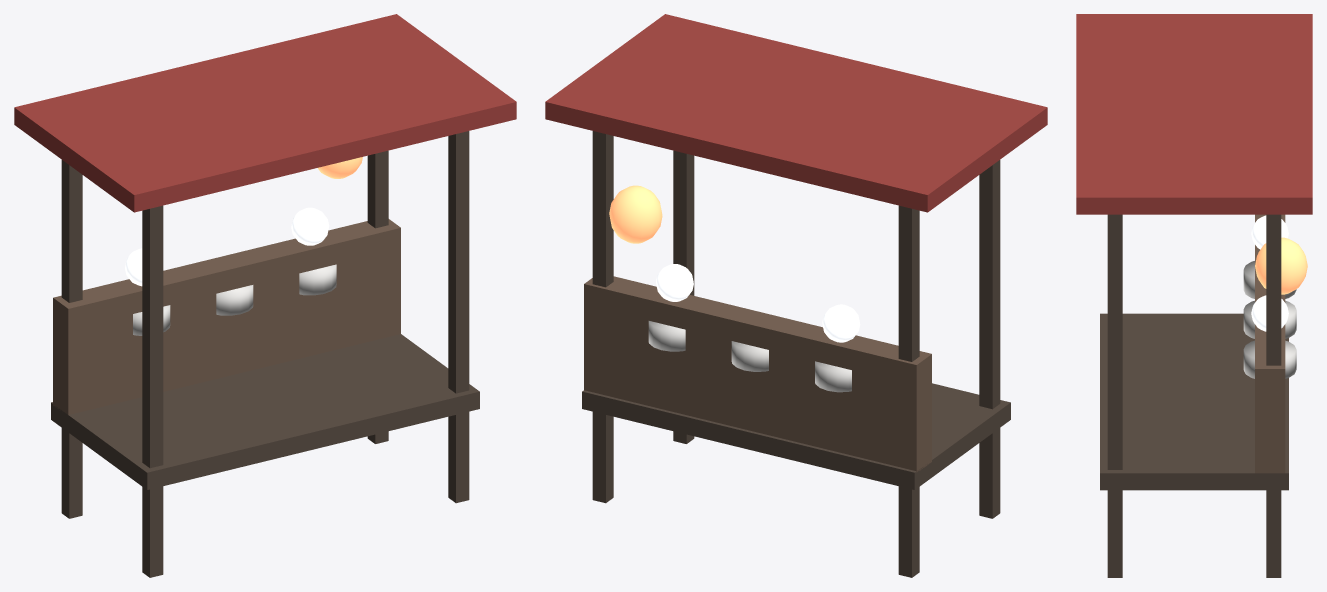
The model's file is prop_yatai_ramen.glb.
3 renders of one model, left to right at view 1: azimuth 30°, elevation 25°; view 2: azimuth 150°, elevation 25°; view 3: azimuth 270°, elevation 25°, orthographic.
Parts seen in each view (by area): view 1: yatai_ramen; view 2: yatai_ramen; view 3: yatai_ramen.
Boxes of the visible parts, bbox=[...] form: yatai_ramen: bbox=[14, 14, 516, 577]; yatai_ramen: bbox=[545, 14, 1047, 577]; yatai_ramen: bbox=[1076, 14, 1312, 577].
Bounding box in the file's own units: 2.3 × 2.31 × 1.25.
